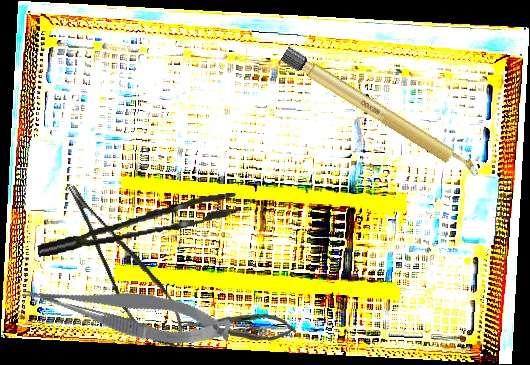Micro Scissor: (62, 168, 194, 361), (19, 258, 235, 363)
Needle Holder: (181, 309, 298, 343)
Scalpel Handle: (279, 45, 483, 183)
Tissue Forceps: (33, 192, 243, 257)
